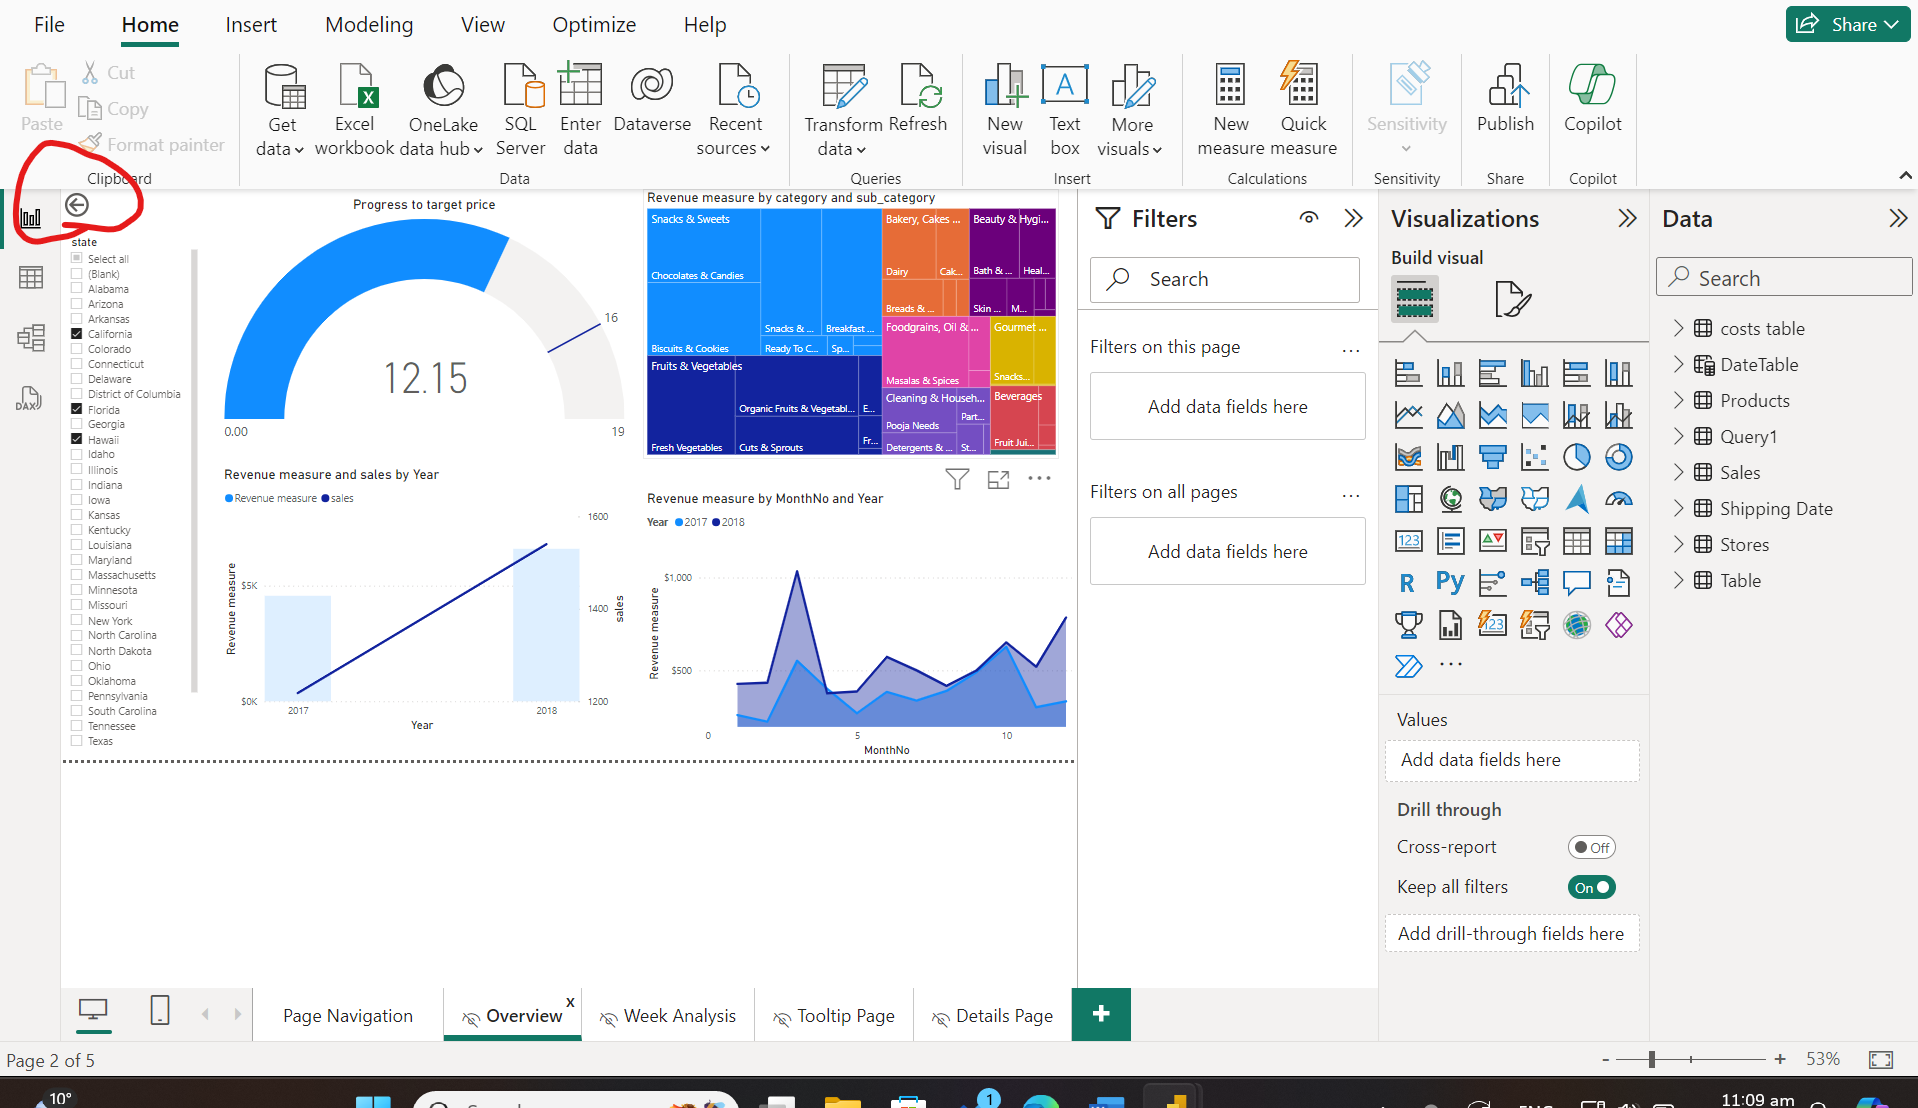

The dashboard page shown, as its layout file describes it:
{"tool":"powerbi","page":{"name":"Overview","canvas":[1280,720],"ordinal":1},"visuals":[{"type":"areaChart","fields":{"Category":["DateTable.MonthNo"],"Y":["Sales.Revenue measure"],"Series":["DateTable.Year"]},"box":[732.4,380.3,547.6,339.5],"z":0},{"type":"lineClusteredColumnComboChart","fields":{"Category":["DateTable.Date Hierarchy.Year","DateTable.Date Hierarchy.Quarter","DateTable.Date Hierarchy.MonthName","DateTable.Date Hierarchy.Day"],"Y":["Sales.Revenue measure"],"Y2":["Sum(Sales.sales)"]},"box":[200.4,349.2,514.5,338.5],"z":1000},{"type":"treemap","fields":{"Values":["Sales.Revenue measure"],"Group":["Products.category"],"Details":["Products.sub_category"]},"box":[732.4,0,525.2,339.5],"z":2000},{"type":"gauge","title":"Progress to target price","fields":{"Y":["Sales.Averge"],"MaxValue":["Sales.Max value"],"TargetValue":["Sales.Target value"]},"box":[200.4,9.7,514.5,320],"z":3000},{"type":"slicer","fields":{"Values":["Stores.state"]},"box":[0,53.5,177,654.6],"z":4000},{"type":"actionButton","box":[0,0,100,40],"z":5000}]}

Visuals, with their boxes on the page's 1280x720 design canvas (x1, y1, x2, y2). These are canvas units, not pixel positions in the 1918x1108 screenshot, which may show the page scaled, cropped or inside an application window:
areaChart - DateTable.MonthNo x Sales.Revenue measure: {"left": 732, "top": 380, "right": 1280, "bottom": 720}
lineClusteredColumnComboChart - DateTable.Date Hierarchy.Year x DateTable.Date Hierarchy.Quarter: {"left": 200, "top": 349, "right": 715, "bottom": 688}
treemap - Sales.Revenue measure x Products.category: {"left": 732, "top": 0, "right": 1258, "bottom": 340}
"Progress to target price" gauge: {"left": 200, "top": 10, "right": 715, "bottom": 330}
slicer - Stores.state: {"left": 0, "top": 54, "right": 177, "bottom": 708}
actionButton: {"left": 0, "top": 0, "right": 100, "bottom": 40}
